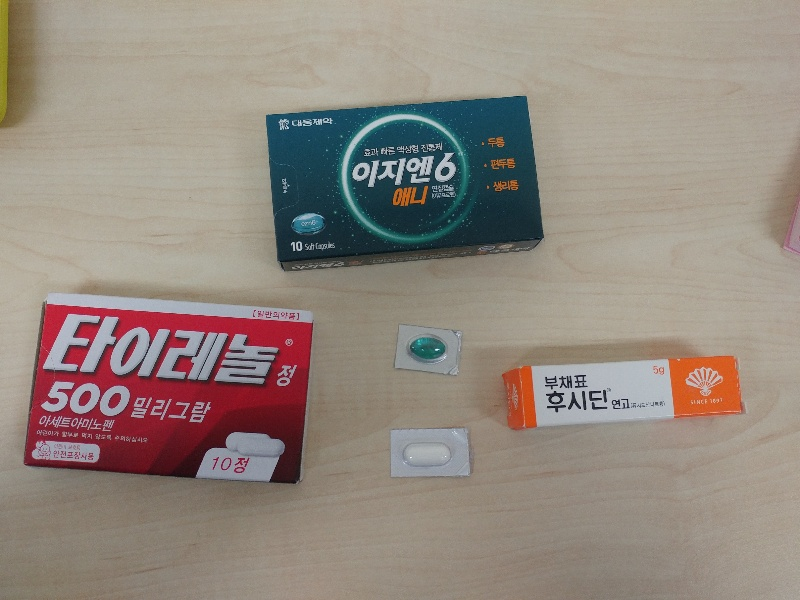ezn: (265, 97, 545, 272)
fucidin: (502, 356, 747, 431)
pill_ezn: (394, 324, 459, 374)
tylenol: (24, 294, 314, 485)
